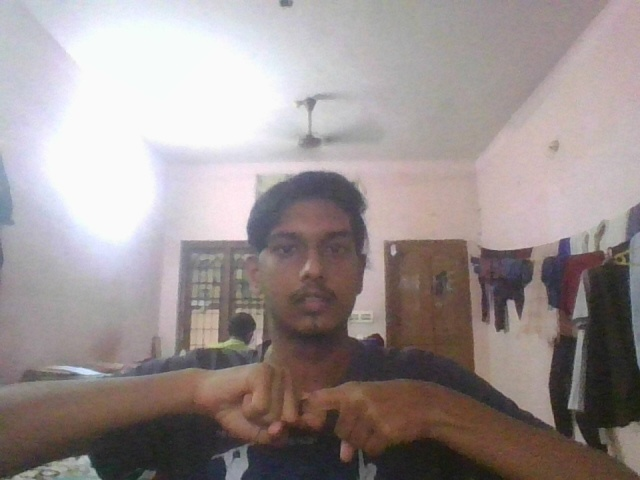friend: (174, 359, 450, 467)
